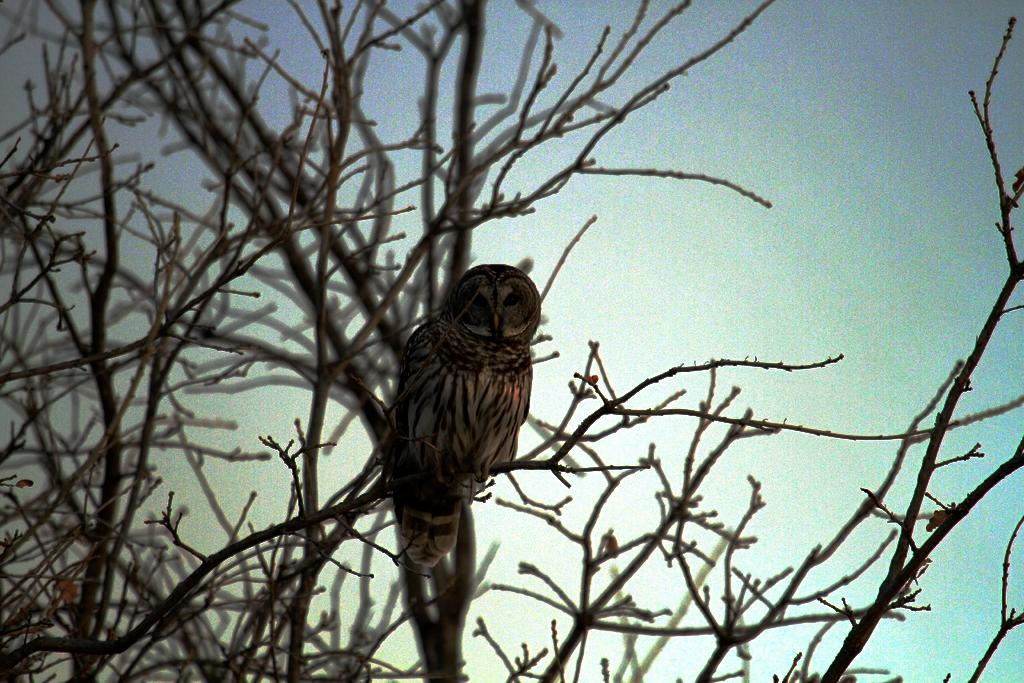Owl: (392, 262, 544, 572)
